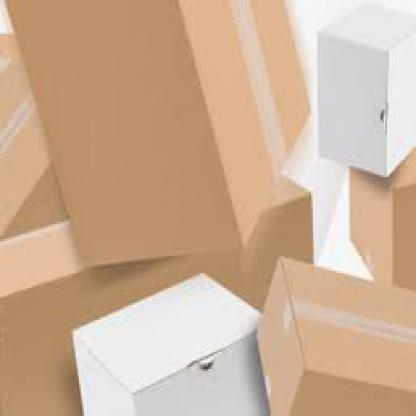CARDBOARD: (0, 0, 308, 267), (0, 175, 311, 414), (73, 271, 269, 414), (255, 254, 414, 414), (318, 2, 414, 173), (0, 30, 63, 239), (348, 153, 414, 286)
